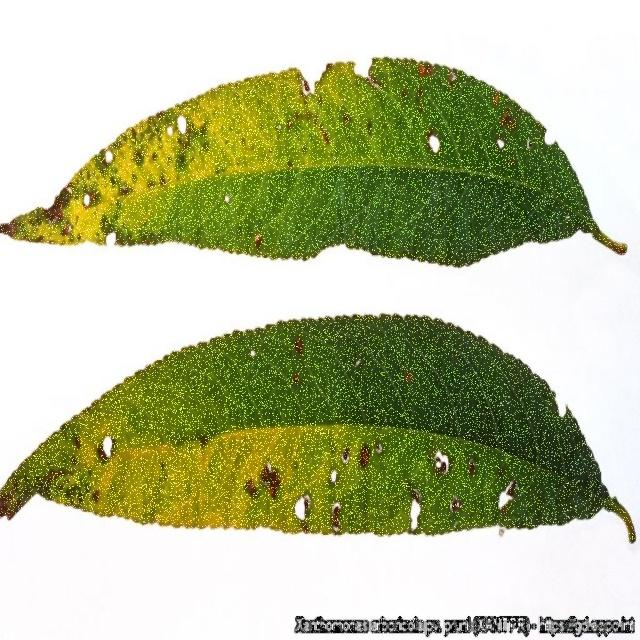shot_hole: (0, 88, 241, 288), (351, 12, 592, 212), (280, 385, 521, 585), (0, 363, 181, 563)
